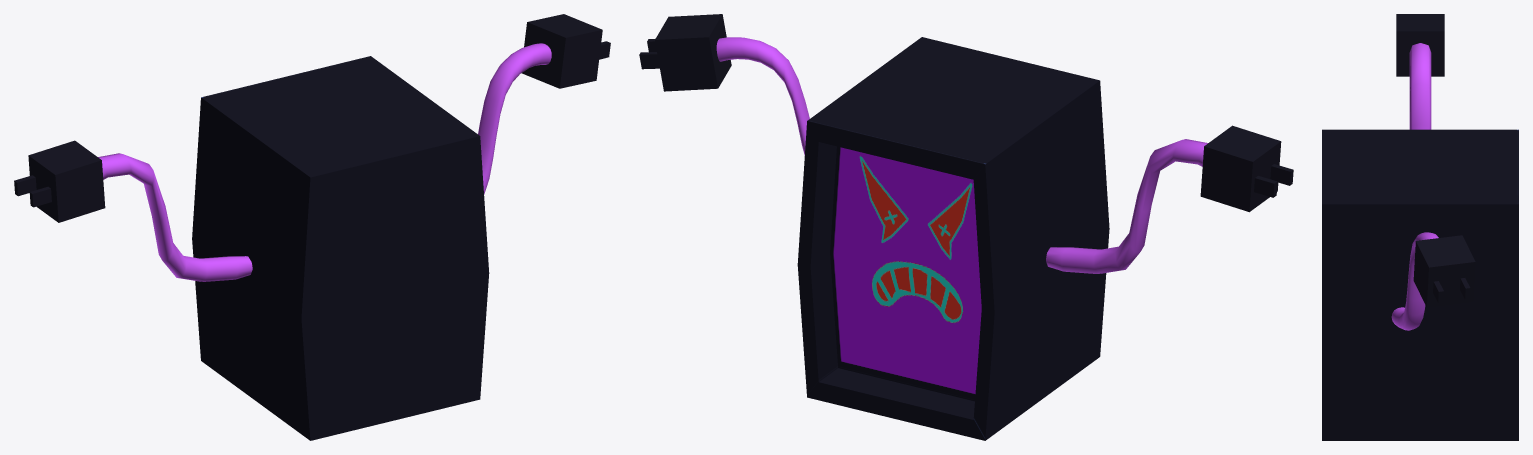
File: enemigo 4.fbx
3 views of the same model, side by side, from view 1: azimuth 30°, elevation 25°; view 2: azimuth 150°, elevation 25°; view 3: azimuth 270°, elevation 25° (orthographic). The views are drawn at different scales.
Visible parts, largest first — view 1: pCube2, polySurface1, polySurface3, polySurface2, polySurface4; view 2: pCube2, polySurface1, polySurface3, polySurface2, polySurface4; view 3: pCube2, polySurface3, polySurface1, polySurface2, polySurface4.
Part boxes in pixels (x1=…): pCube2: x1=192, y1=56, x2=489, y2=440; polySurface1: x1=14, y1=140, x2=105, y2=222; polySurface3: x1=521, y1=14, x2=610, y2=88; polySurface2: x1=98, y1=153, x2=252, y2=281; polySurface4: x1=478, y1=43, x2=551, y2=194; pCube2: x1=797, y1=37, x2=1109, y2=440; polySurface1: x1=1200, y1=125, x2=1293, y2=212; polySurface3: x1=639, y1=14, x2=731, y2=91; polySurface2: x1=1046, y1=139, x2=1207, y2=273; polySurface4: x1=716, y1=37, x2=809, y2=155; pCube2: x1=1322, y1=129, x2=1518, y2=440; polySurface3: x1=1413, y1=235, x2=1475, y2=307; polySurface1: x1=1396, y1=14, x2=1444, y2=76; polySurface2: x1=1409, y1=43, x2=1431, y2=129; polySurface4: x1=1391, y1=232, x2=1438, y2=330.
Bounding box in the file's own units: 3.56 × 1.66 × 1.13.
